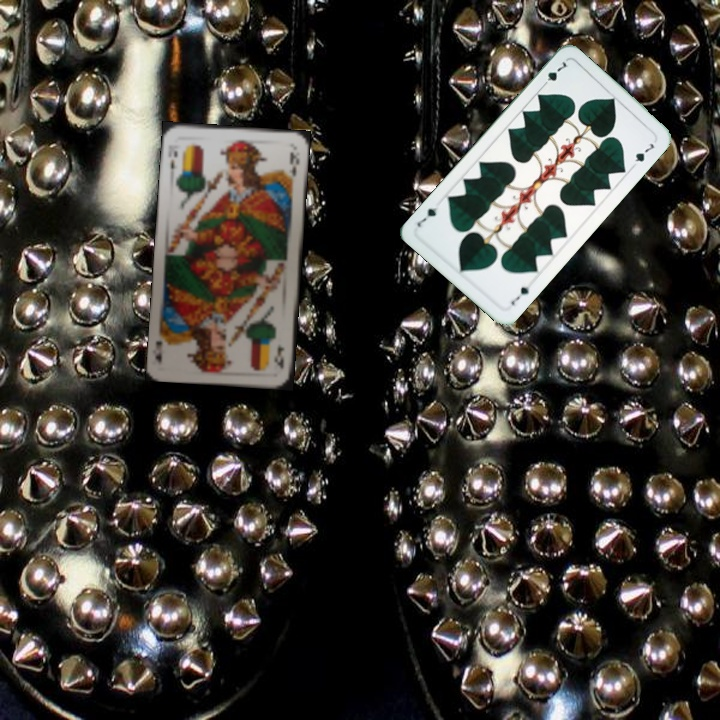EK: (271, 340, 287, 372), (165, 147, 181, 177)
G7: (538, 57, 571, 90), (507, 283, 532, 308)
